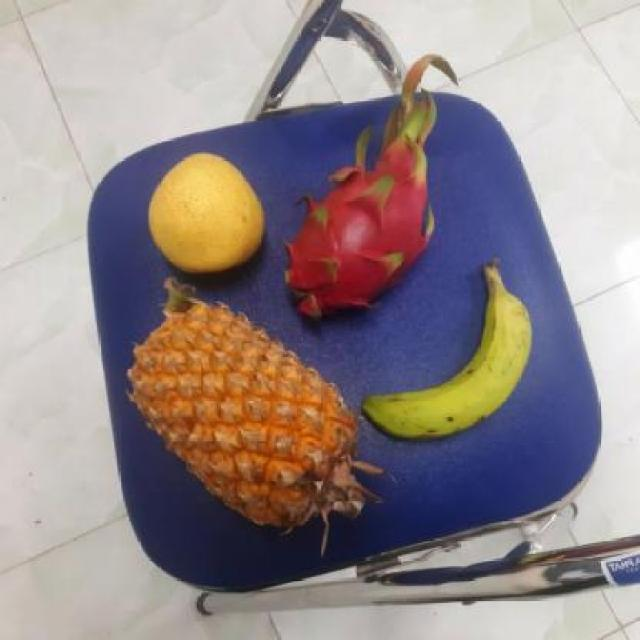banana: (365, 268, 540, 443)
dragon fruit: (283, 157, 437, 318)
pear: (147, 154, 270, 278)
pineapple: (140, 296, 368, 526)
